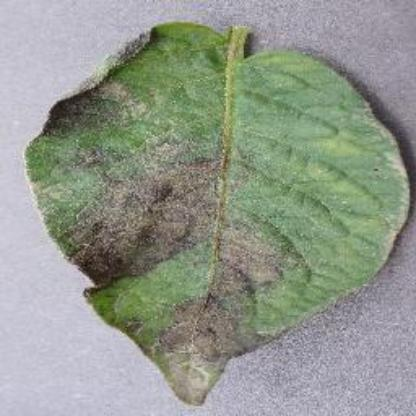Late-Blight: (28, 4, 416, 404)
